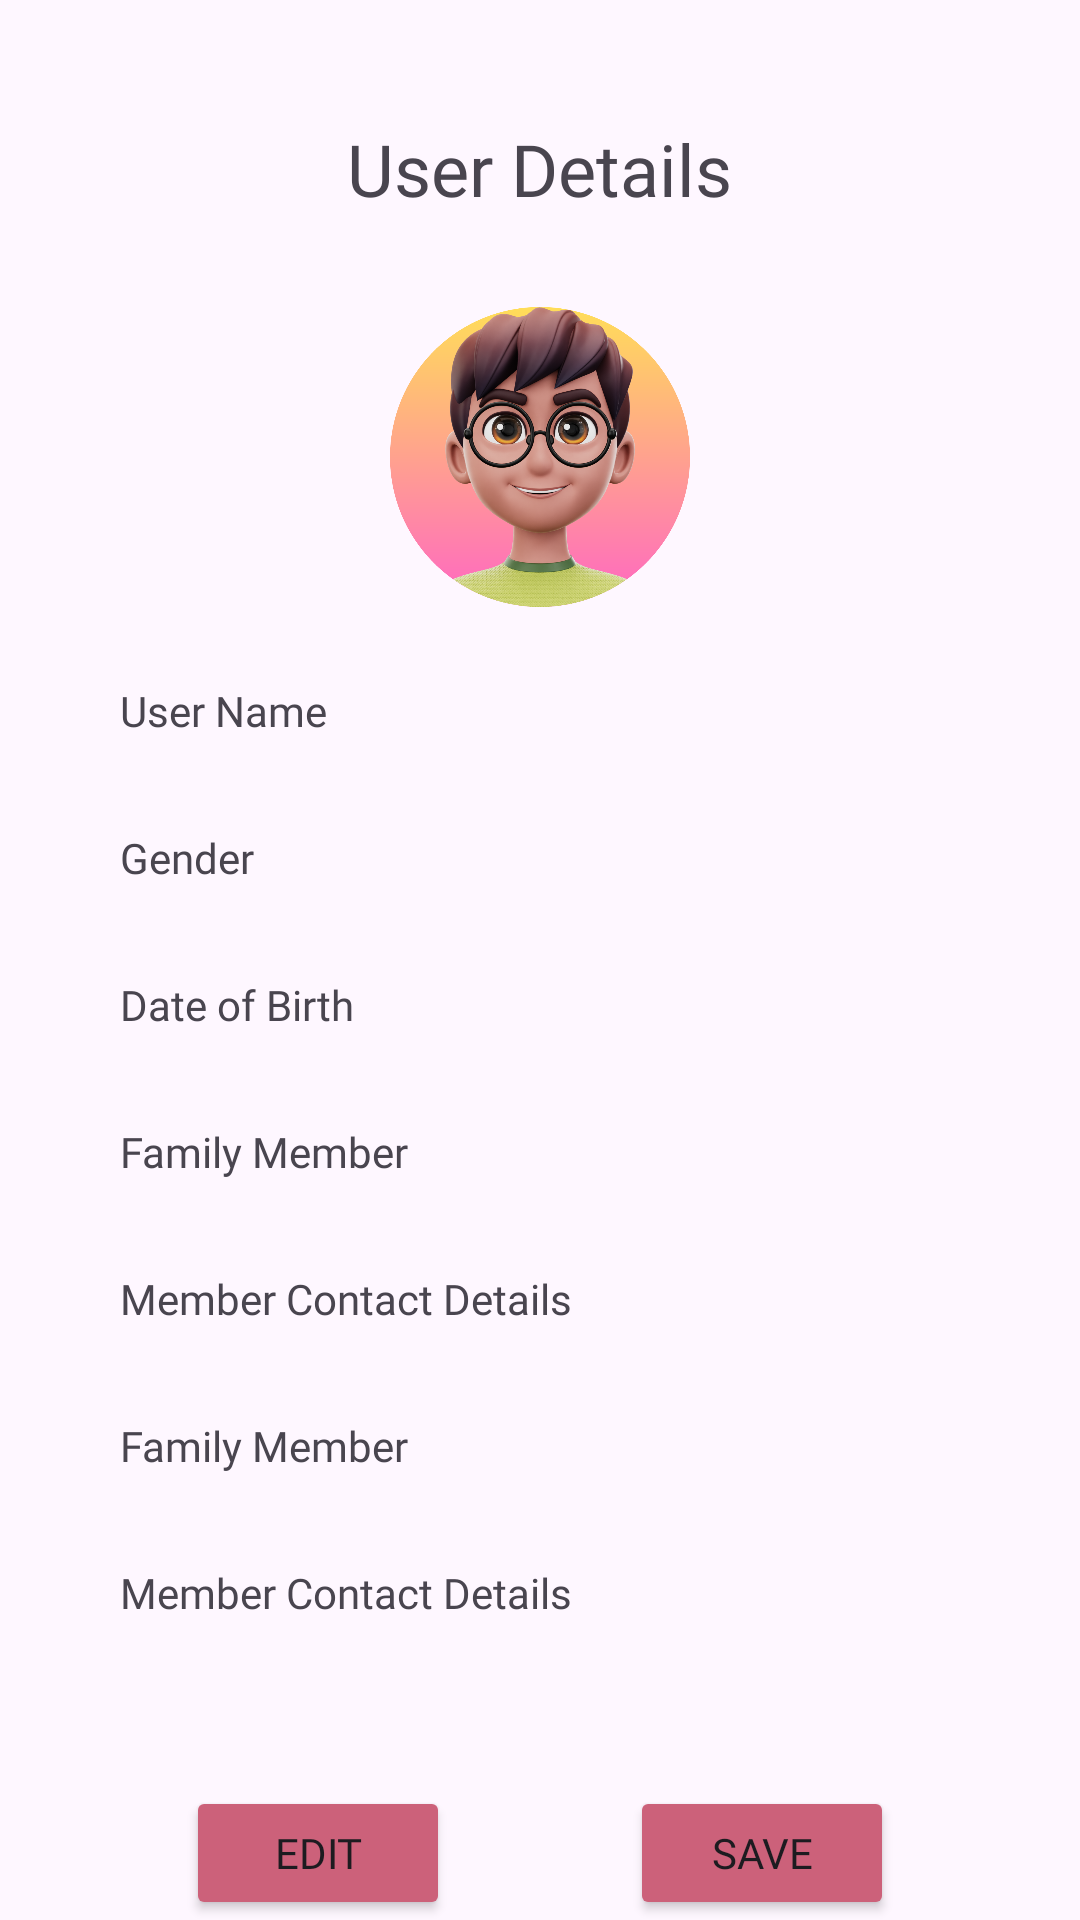

Named icons in this screenshot (1080x1920) and their bounding boxes, (x1, y1, x2, y2):
profileicon: (390, 307, 690, 607)
